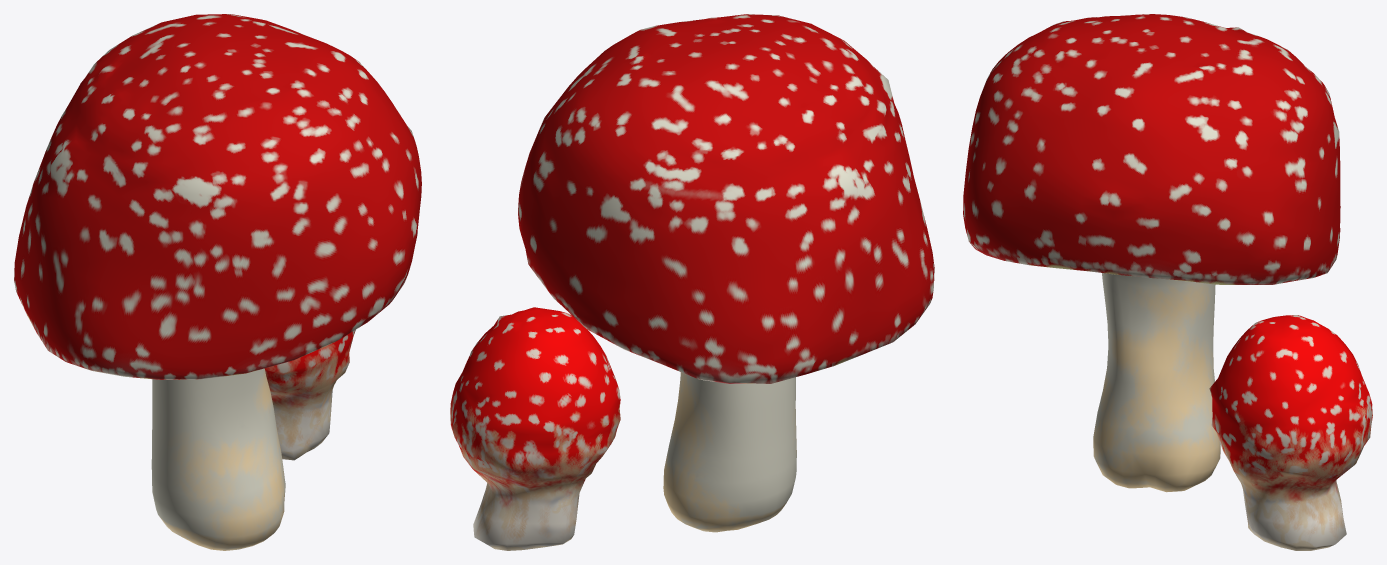
File: mushroom_e19bac6a.glb
3 views of the same model, side by side, from view 1: azimuth 30°, elevation 25°; view 2: azimuth 150°, elevation 25°; view 3: azimuth 270°, elevation 25° (orthographic). The views are drawn at different scales.
Visible parts, largest first — view 1: Seta 1 Baja, seta_2 Baja; view 2: Seta 1 Baja, seta_2 Baja; view 3: Seta 1 Baja, seta_2 Baja.
Part boxes in pixels (x1,y1,x2,y2): Seta 1 Baja: (14,14,421,550); seta_2 Baja: (264,329,355,460); Seta 1 Baja: (518,14,934,532); seta_2 Baja: (450,307,620,550); Seta 1 Baja: (963,14,1340,492); seta_2 Baja: (1209,315,1372,550).
Bounding box in the file's own units: 8.72 × 10.6 × 8.76.
Materials: 2 (2 with a texture image).
